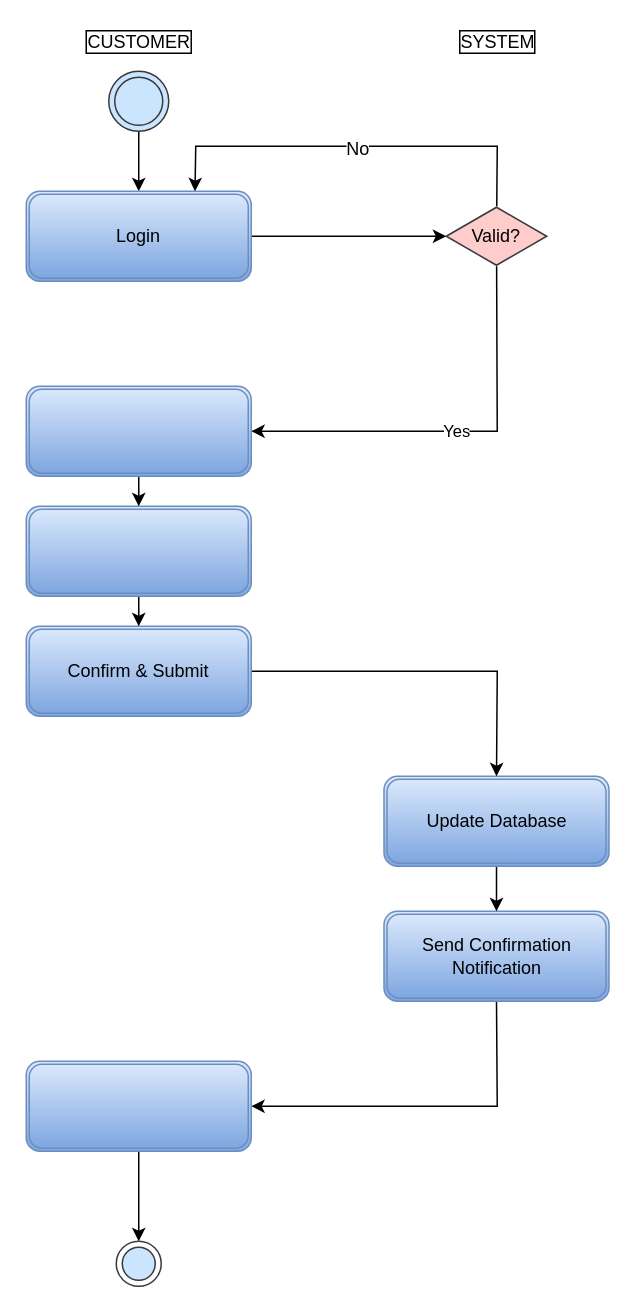
Some shapes in this 636 by 1313 pixel diagram are drawn without their labels. The shapes that lost their labels are listed below. From the top down, each one's centre as x and y in pixels, then its label:
At (x=138, y=430): "Navigate to edit profile".
At (x=138, y=550): "Modify profile".
At (x=138, y=1105): "Logout".
